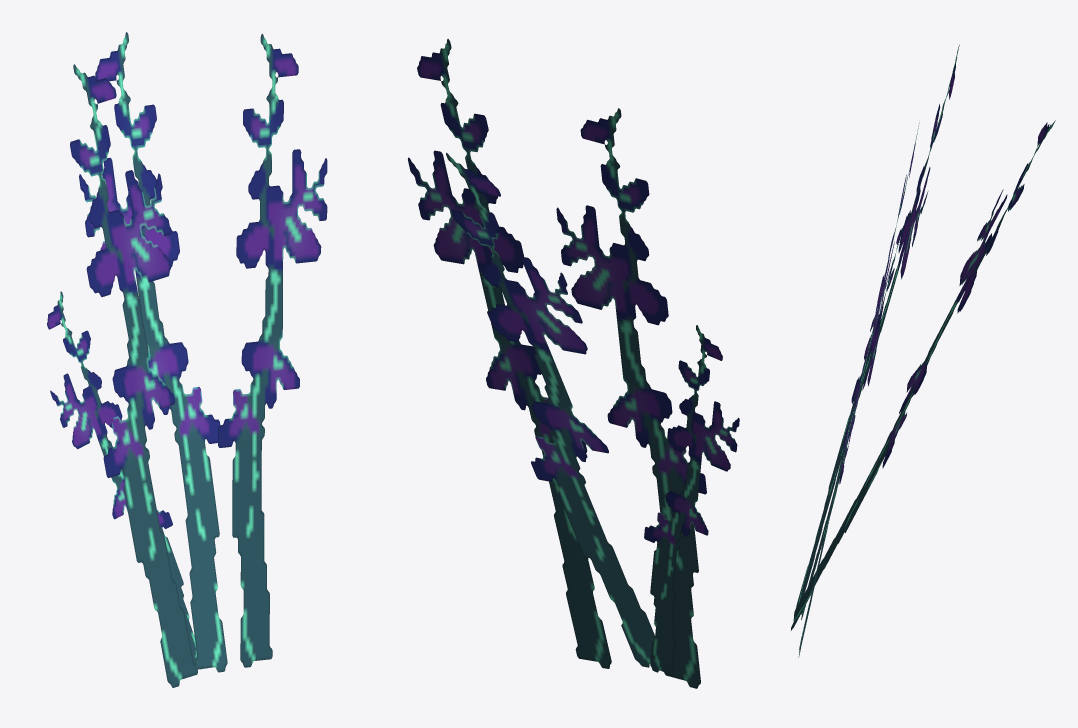
The model's file is Grass Final.fbx.
3 views of the same model, side by side, from view 1: azimuth 30°, elevation 25°; view 2: azimuth 150°, elevation 25°; view 3: azimuth 270°, elevation 25° (orthographic). The views are drawn at different scales.
Parts seen in each view (by area): view 1: polySurface10; view 2: polySurface10; view 3: polySurface10.
Part boxes in pixels (bbox=[...]): polySurface10: bbox=[47, 32, 327, 687]; polySurface10: bbox=[408, 39, 739, 688]; polySurface10: bbox=[791, 44, 1055, 657].
Size of the model in its own units: 24.12 by 42.72 by 17.99.
